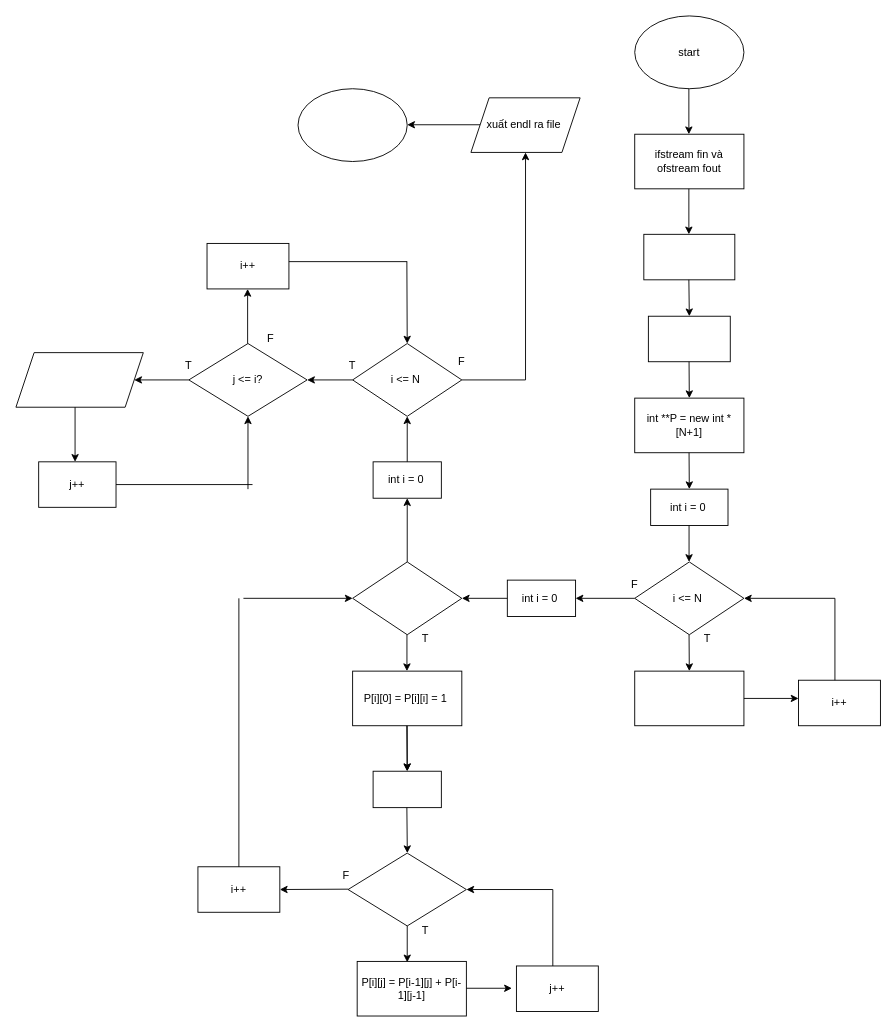
Some shapes in this 896 by 1032 pixel diagram are drawn without their labels. The shapes that lost their labels are listed below. From the top down, each one's centre as x and y in pixels, then its label:
At (x=352, y=125): "end".
At (x=689, y=256): "int N".
At (x=688, y=338): "đọc N".
At (x=79, y=379): "xuất P[i][j] ra file".
At (x=407, y=598): "i <= N?".
At (x=689, y=698): "P[i] = new int[i+1]".
At (x=406, y=789): "int j = 1".
At (x=406, y=889): "j < i?".
